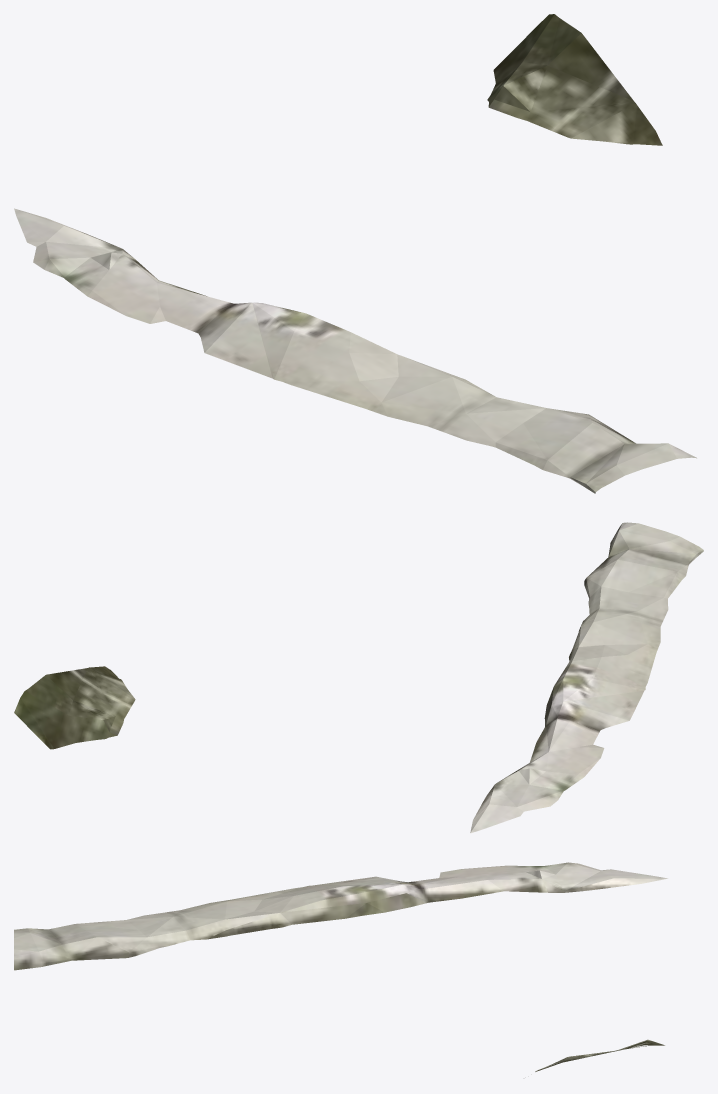
3 views of the same model, one above another, from view 1: azimuth 30°, elevation 25°; view 2: azimuth 150°, elevation 25°; view 3: azimuth 270°, elevation 25° (orthographic). The views are drawn at different scales.
Bounding box in the file's own units: 2.18 × 0.1881 × 2.95.
1 material, 1 textured.
